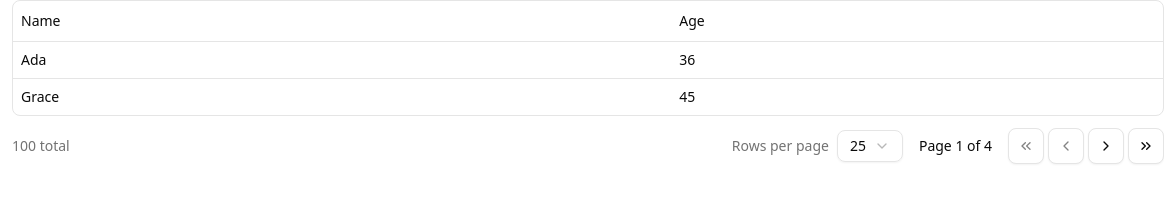
it: DataTable › offers the current page size even when it is not one of the options
Click the dropdown named "Rows per page" at (870, 146), box [837,130,903,162]
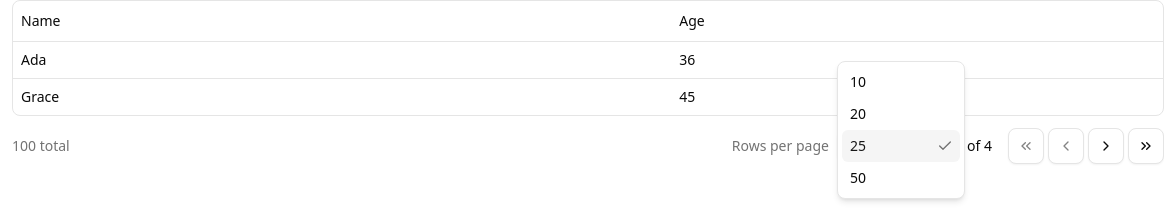
Expected: the options read "10", "20", "25", "50", in this order, [850,72,866,90]; [850,104,866,122]; [842,130,960,162]; [850,168,866,186]
